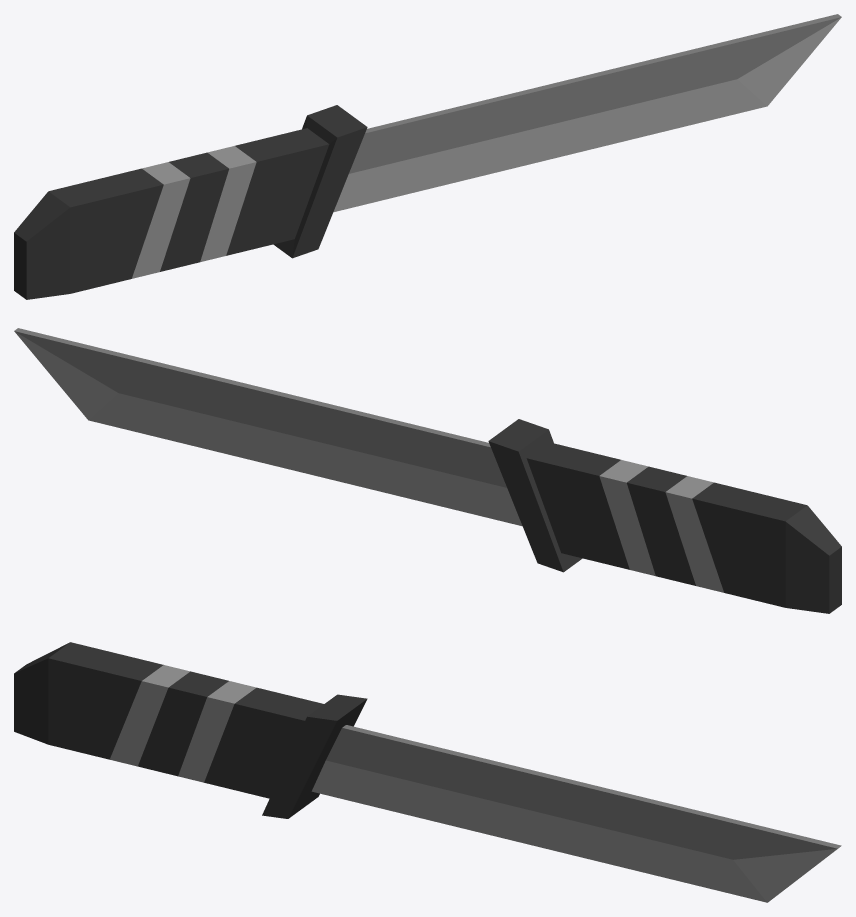
The model's file is Knife_M.fbx.
3 renders of one model, top to bottom at view 1: azimuth 30°, elevation 25°; view 2: azimuth 150°, elevation 25°; view 3: azimuth 330°, elevation 25°, orthographic.
Visible parts, largest first — view 1: Knife_M; view 2: Knife_M; view 3: Knife_M.
Boxes of the visible parts, x1,y1,x2,y2 form: Knife_M: (14,14,841,299); Knife_M: (14,328,841,613); Knife_M: (14,642,841,902).
Size of the model in its own units: 85.67 by 11.29 by 5.5.
